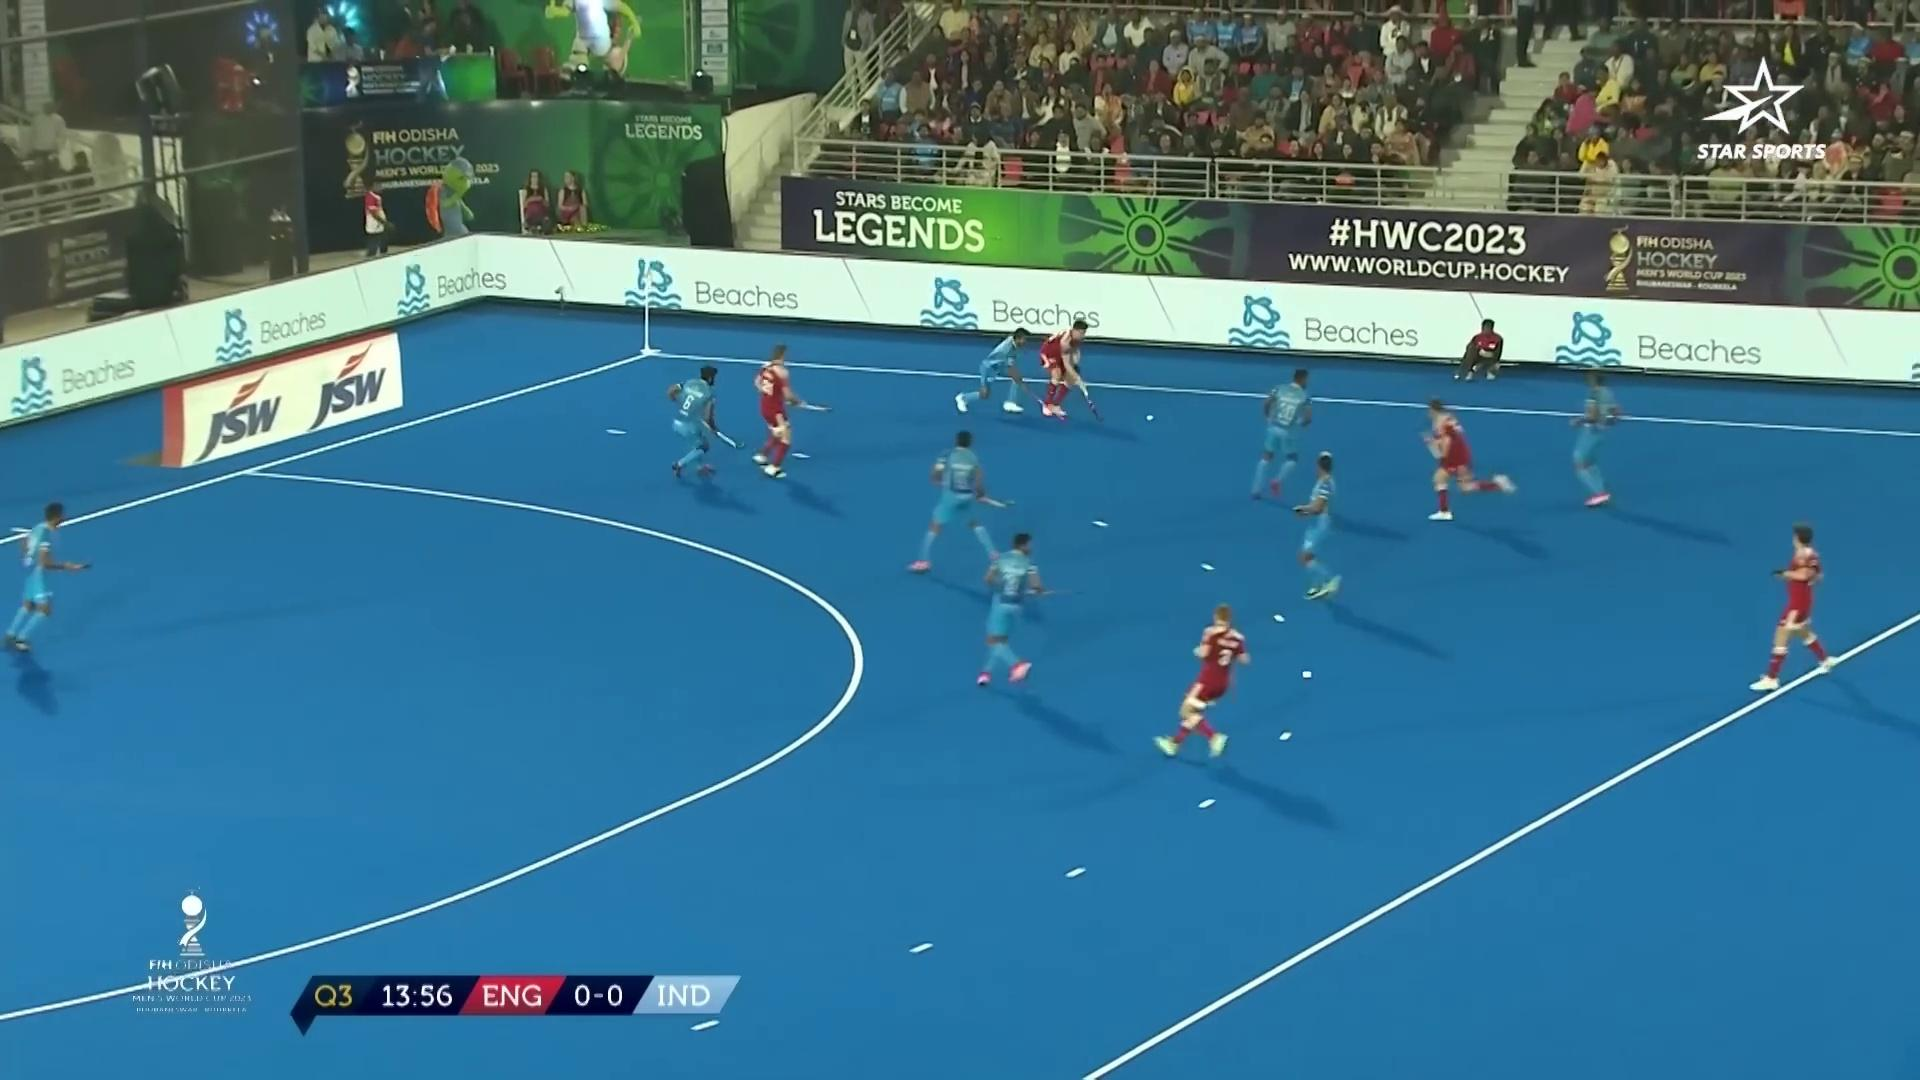ball: (1141, 404, 1167, 433)
